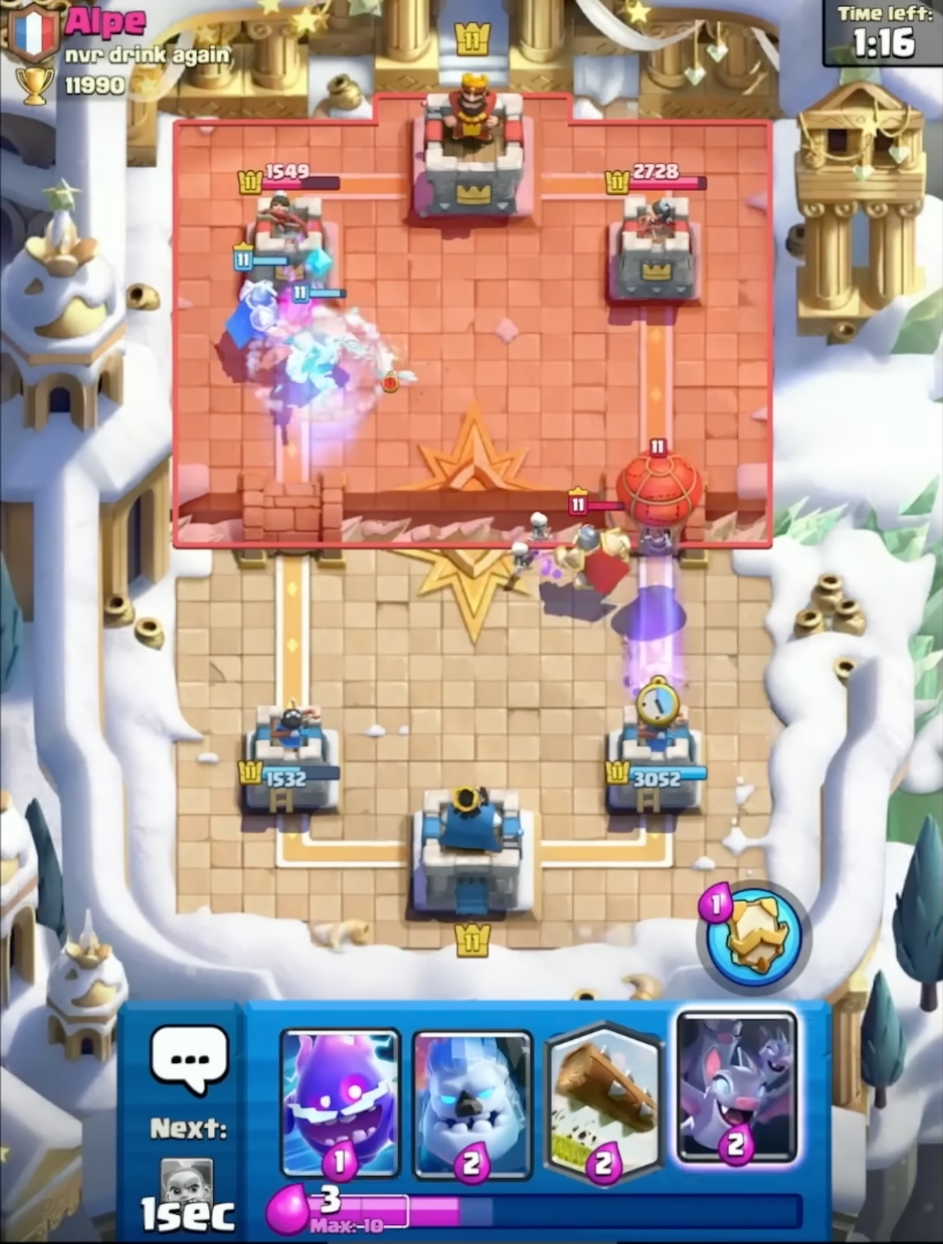balloon: (606, 432, 705, 570)
hero-knight: (556, 479, 633, 616)
